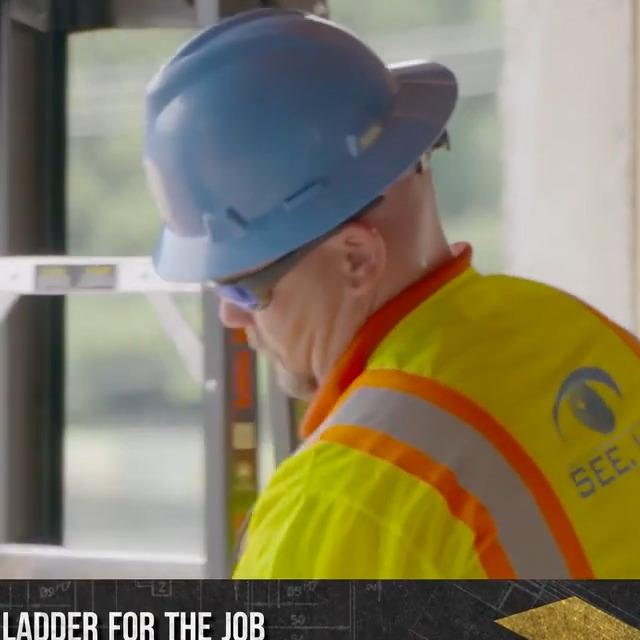Hardhat: (139, 9, 462, 278)
NO-Mask: (259, 294, 364, 400)
Person: (136, 8, 640, 578)
Safety Vest: (231, 272, 640, 579)
